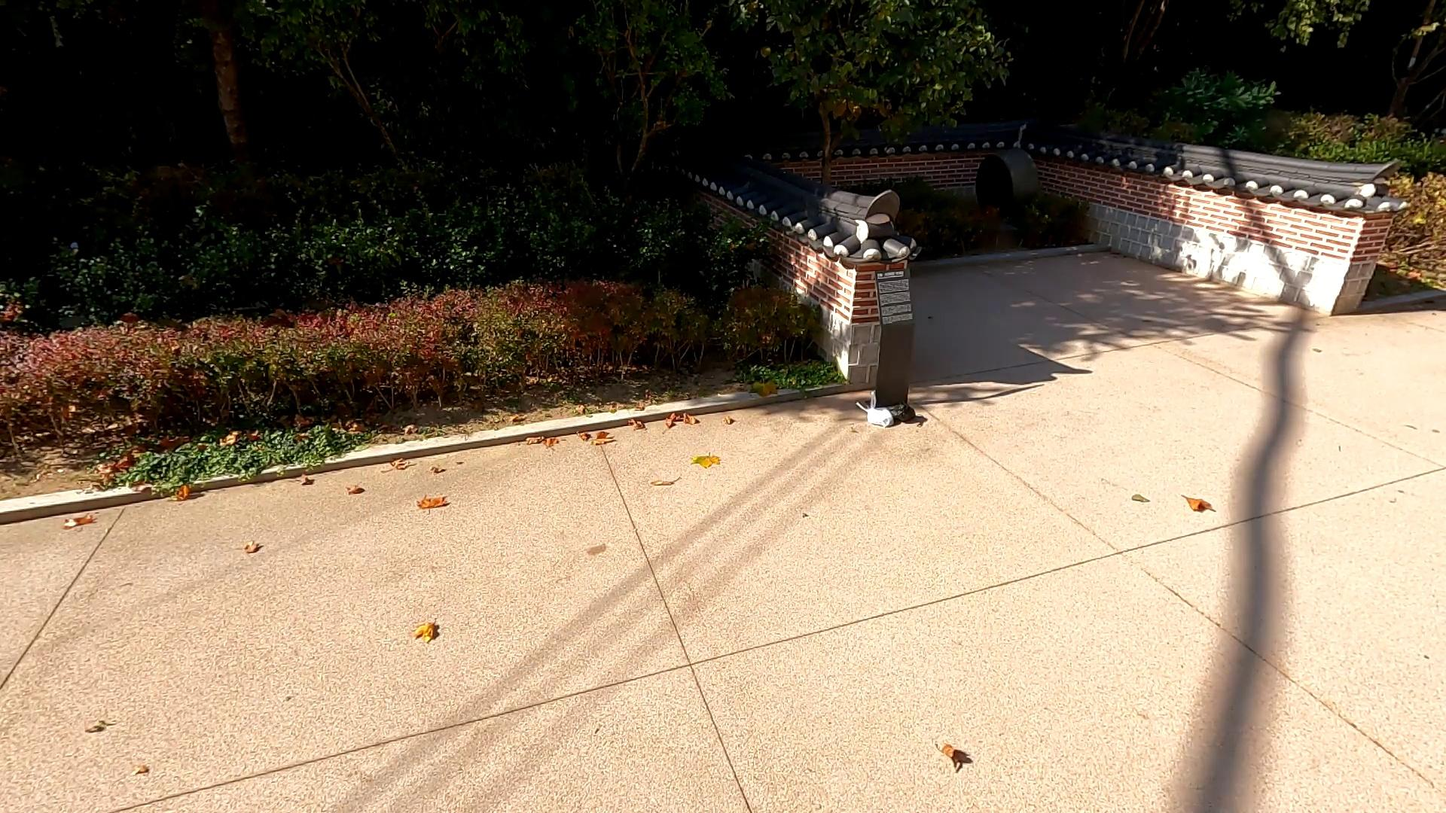trash: (855, 389, 896, 429), (877, 395, 918, 424)
